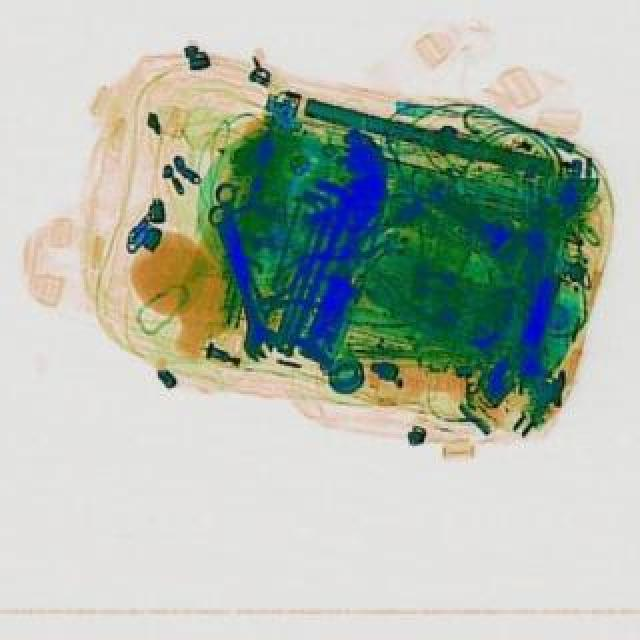scissors: (206, 186, 282, 366), (196, 206, 280, 368)
